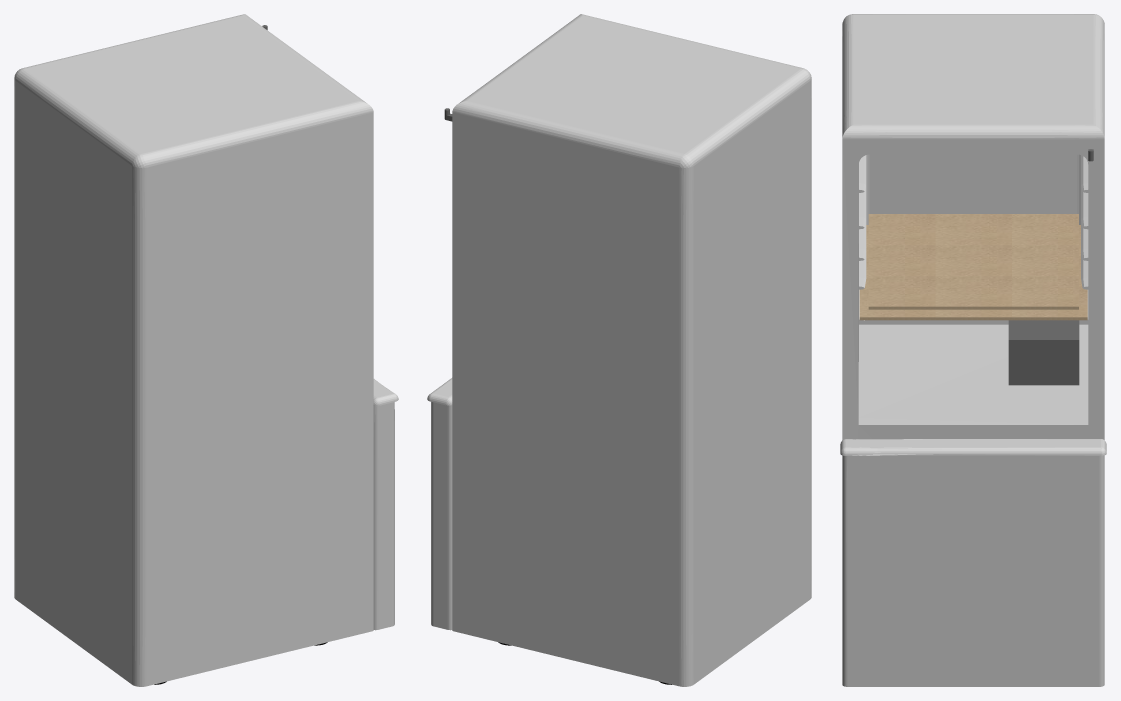
File: refrigerator.dae
3 views of the same model, side by side, from view 1: azimuth 30°, elevation 25°; view 2: azimuth 150°, elevation 25°; view 3: azimuth 270°, elevation 25° (orthographic). The views are drawn at different scales.
Visible parts, largest first — view 1: hontai_2 (×2); view 2: hontai_2 (×2); view 3: hontai_2 (×2), board_2 (×2), gra_2, edge_2.
Boxes of the visible parts, bbox=[...] form: hontai_2 (×2): bbox=[14, 14, 394, 686]; hontai_2 (×2): bbox=[431, 14, 811, 686]; hontai_2 (×2): bbox=[842, 14, 1104, 686]; board_2 (×2): bbox=[859, 214, 1087, 320]; gra_2: bbox=[1008, 320, 1079, 385]; edge_2: bbox=[840, 439, 1106, 455].
Size of the model in its own units: 22.2 by 18.9 by 43.88.
